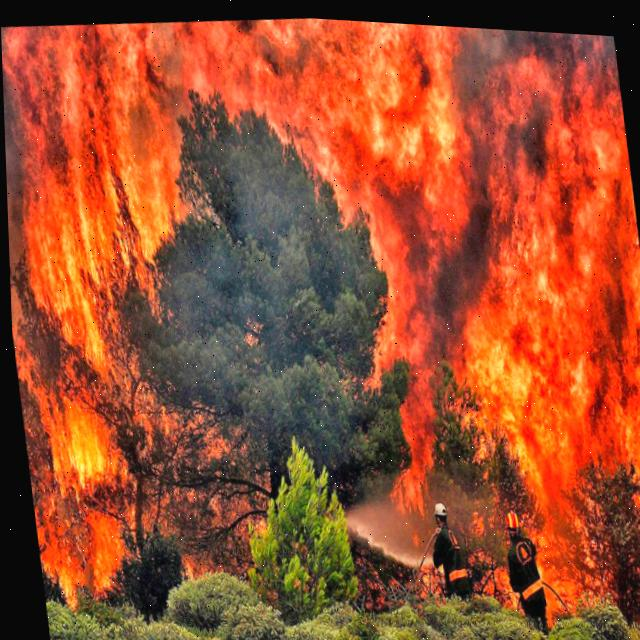fire: (1, 14, 640, 613)
